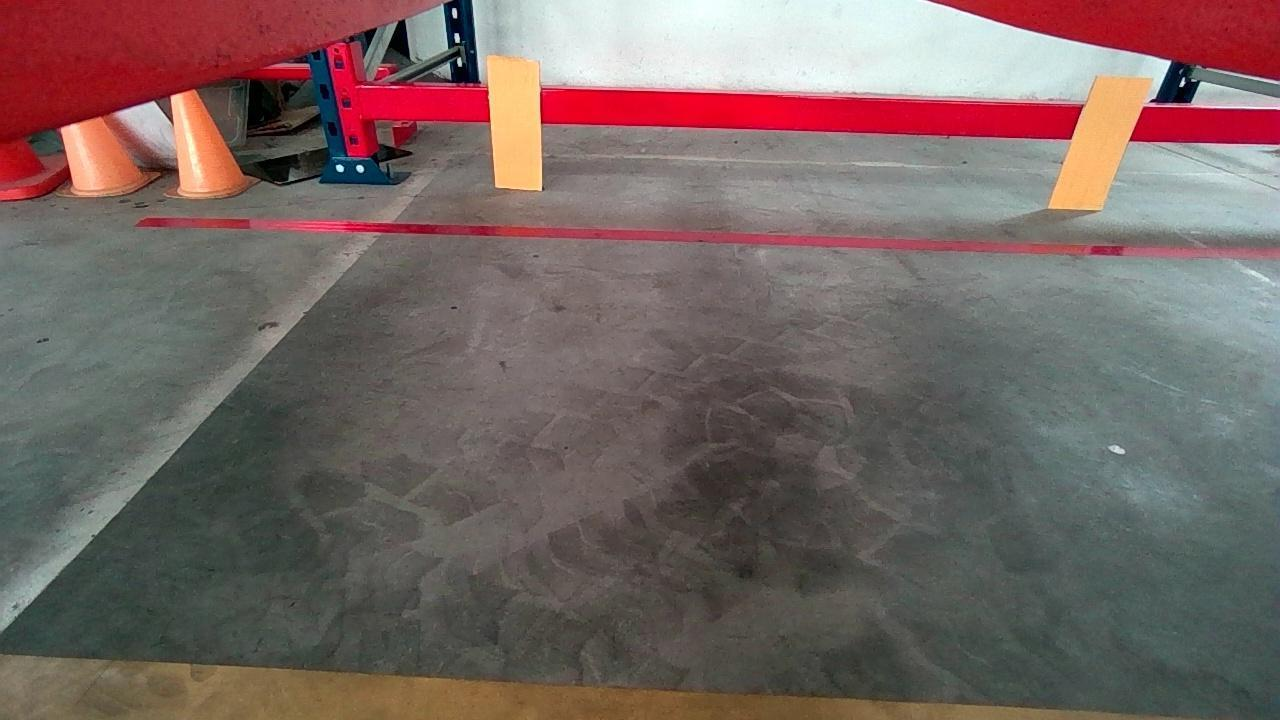h_rack: (359, 85, 1278, 143)
orange_strip: (1047, 71, 1154, 208), (483, 54, 543, 190)
red_line: (138, 214, 1273, 257)
